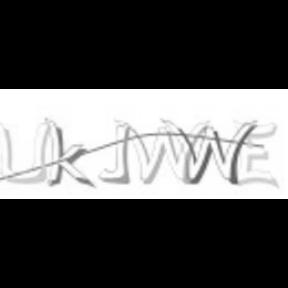J: (97, 120, 133, 186)
U: (0, 120, 52, 186)
W: (168, 119, 256, 186), (125, 119, 210, 186), (232, 116, 280, 190)
k: (44, 118, 94, 188)
